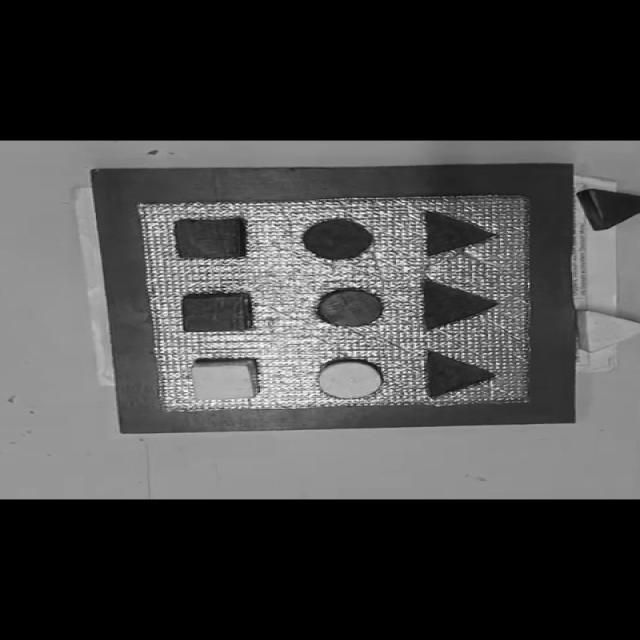bcube: (172, 218, 248, 260)
mtcircle: (302, 218, 376, 260)
mttriangle: (419, 278, 499, 330), (424, 350, 496, 400), (422, 209, 498, 256)
rcircle: (317, 289, 384, 327)
rcube: (180, 292, 252, 332)
rtriangle: (576, 188, 640, 232)
wb: (137, 194, 536, 415)
ycircle: (317, 358, 385, 398)
ycube: (189, 358, 261, 402)
ytriangle: (576, 309, 640, 353)
